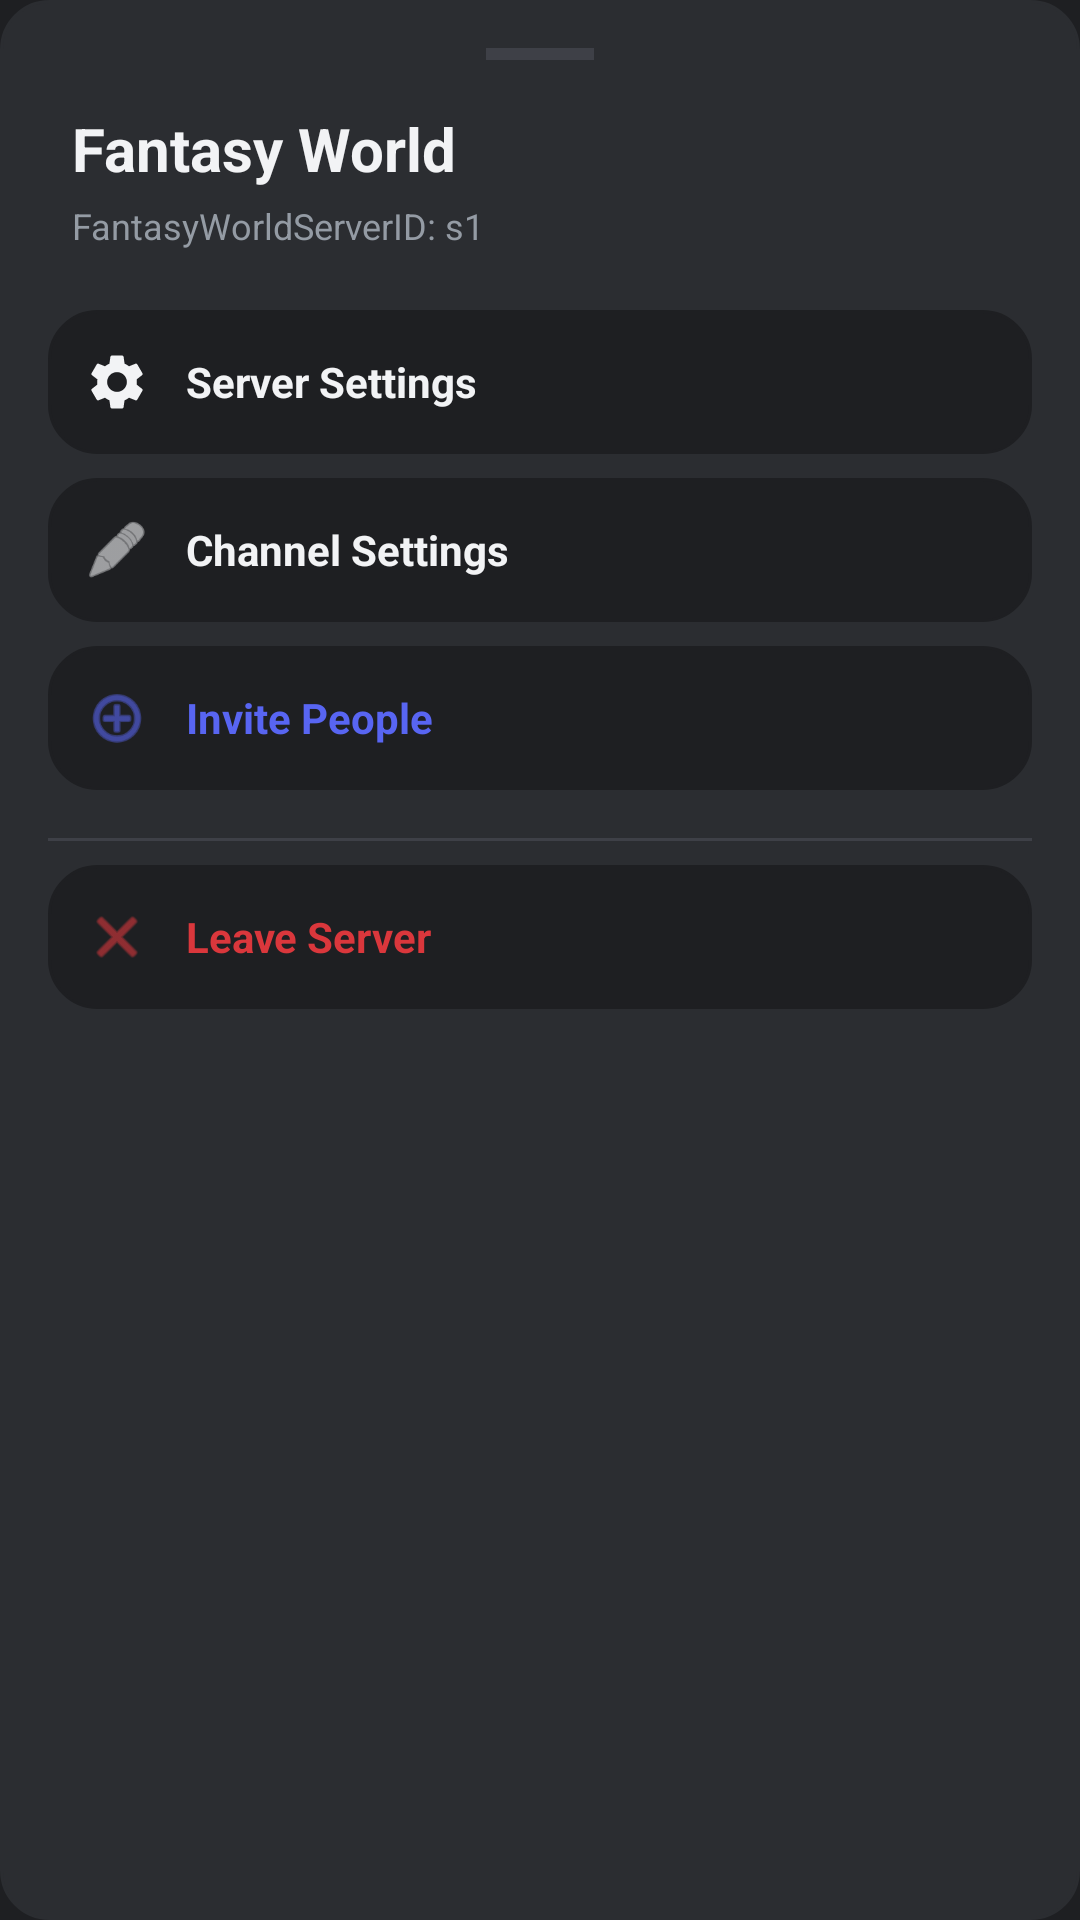

Named icons in this screenshot (1080 × 1920) and their centers, point (x, y):
add: point (117, 718)
close clear cancel: point (117, 937)
edit: point (117, 550)
